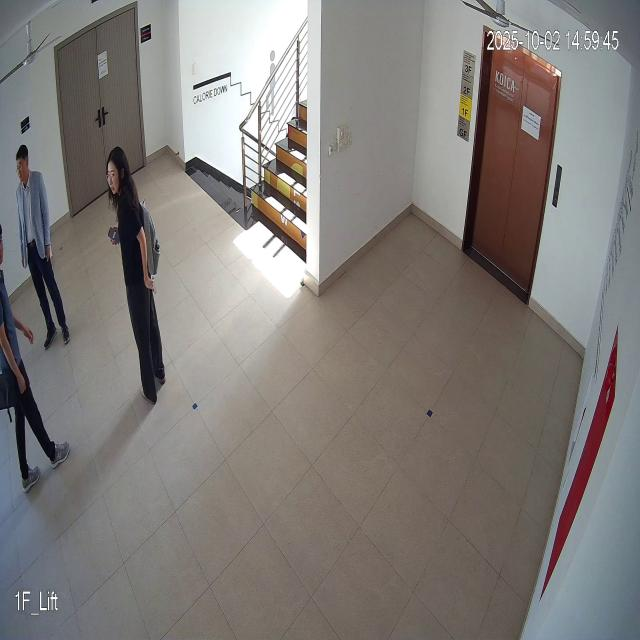face: (102, 145, 132, 200)
